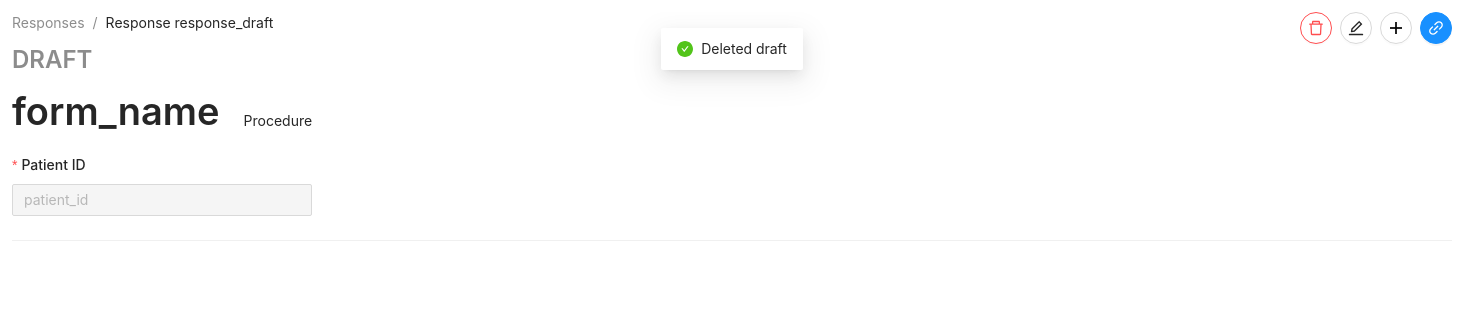
Test: Can edit draft response
The width and height of the screenshot is (1464, 317).
Click the button with test id "make-revision": (1356, 28) [1340,12,1372,44]
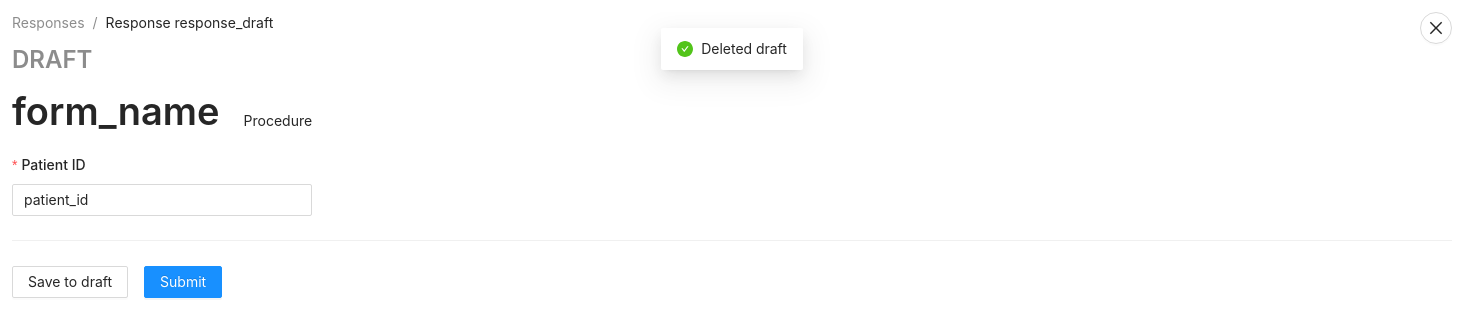
Expected: the button with test id "submit" is shown, [144,266,222,298]
